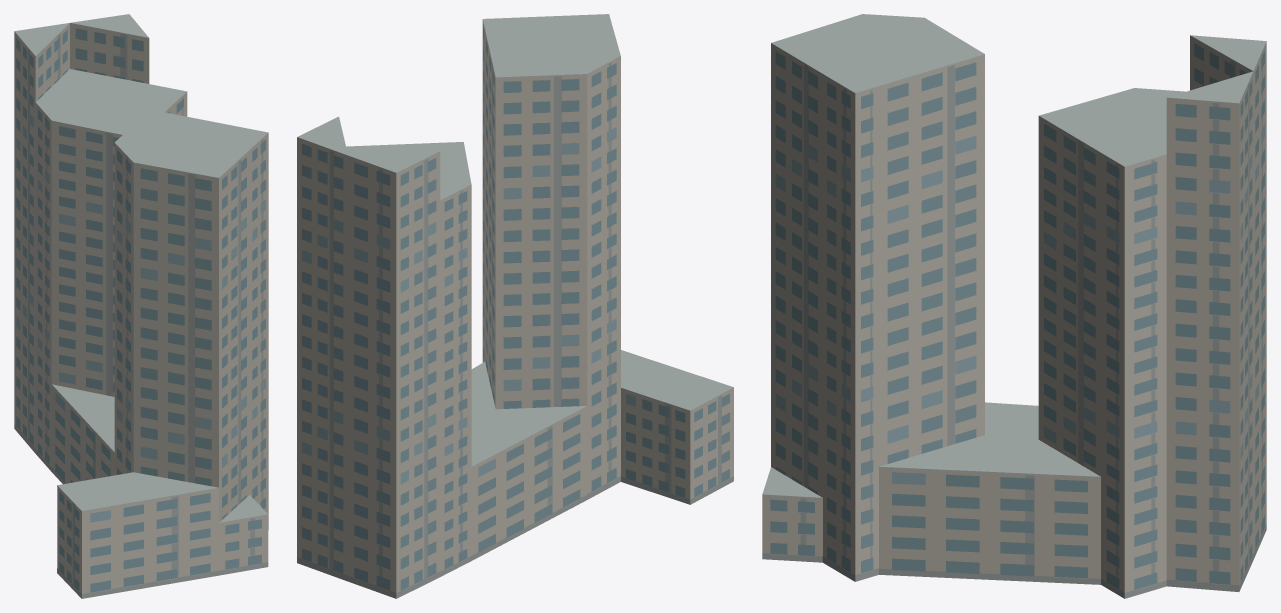
File: residential-8d75d198-1858-4b1b-9cde-50e6384d2f3f.glb
3 renders of one model, left to right at view 1: azimuth 30°, elevation 25°; view 2: azimuth 150°, elevation 25°; view 3: azimuth 270°, elevation 25°, orthographic. The views are drawn at different scales.
Parts seen in each view (by area): view 1: residential-8d75d198-1858-4b1b-9cde-50e6384d2f3f.tmp; view 2: residential-8d75d198-1858-4b1b-9cde-50e6384d2f3f.tmp; view 3: residential-8d75d198-1858-4b1b-9cde-50e6384d2f3f.tmp.
Part boxes in pixels (left/top/right/bottom): residential-8d75d198-1858-4b1b-9cde-50e6384d2f3f.tmp: left=14, top=14, right=268, bottom=598; residential-8d75d198-1858-4b1b-9cde-50e6384d2f3f.tmp: left=297, top=14, right=733, bottom=598; residential-8d75d198-1858-4b1b-9cde-50e6384d2f3f.tmp: left=762, top=14, right=1266, bottom=598.
Bounding box in the file's own units: 43.4 × 69 × 64.52.
